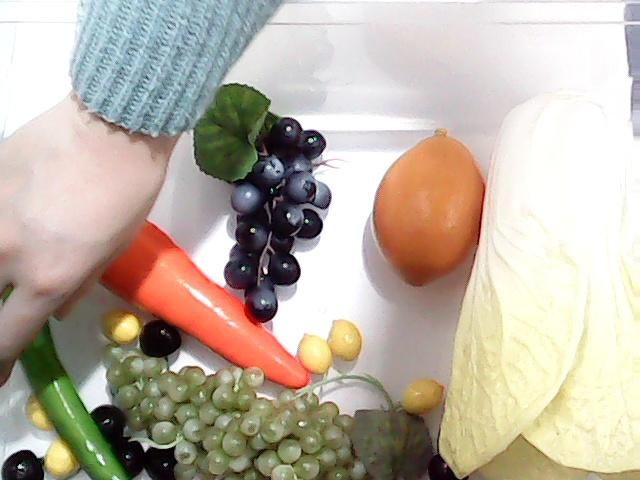carrot: (97, 218, 310, 390)
grape: (193, 77, 335, 324), (96, 343, 352, 473)
lemon: (364, 124, 492, 286)
napa cabbage: (436, 82, 640, 480)
pepper: (0, 277, 128, 468)
